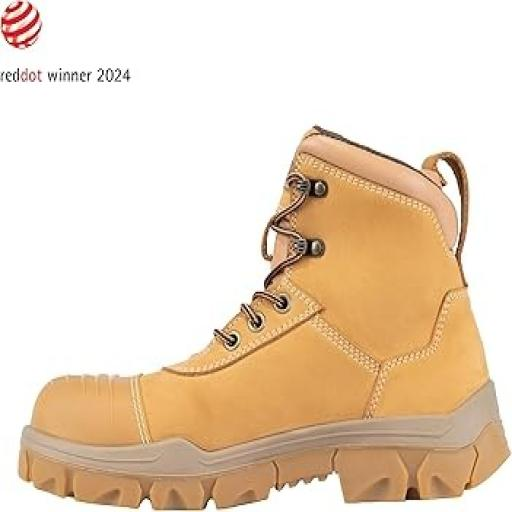safety_boots: (0, 316, 511, 507)
